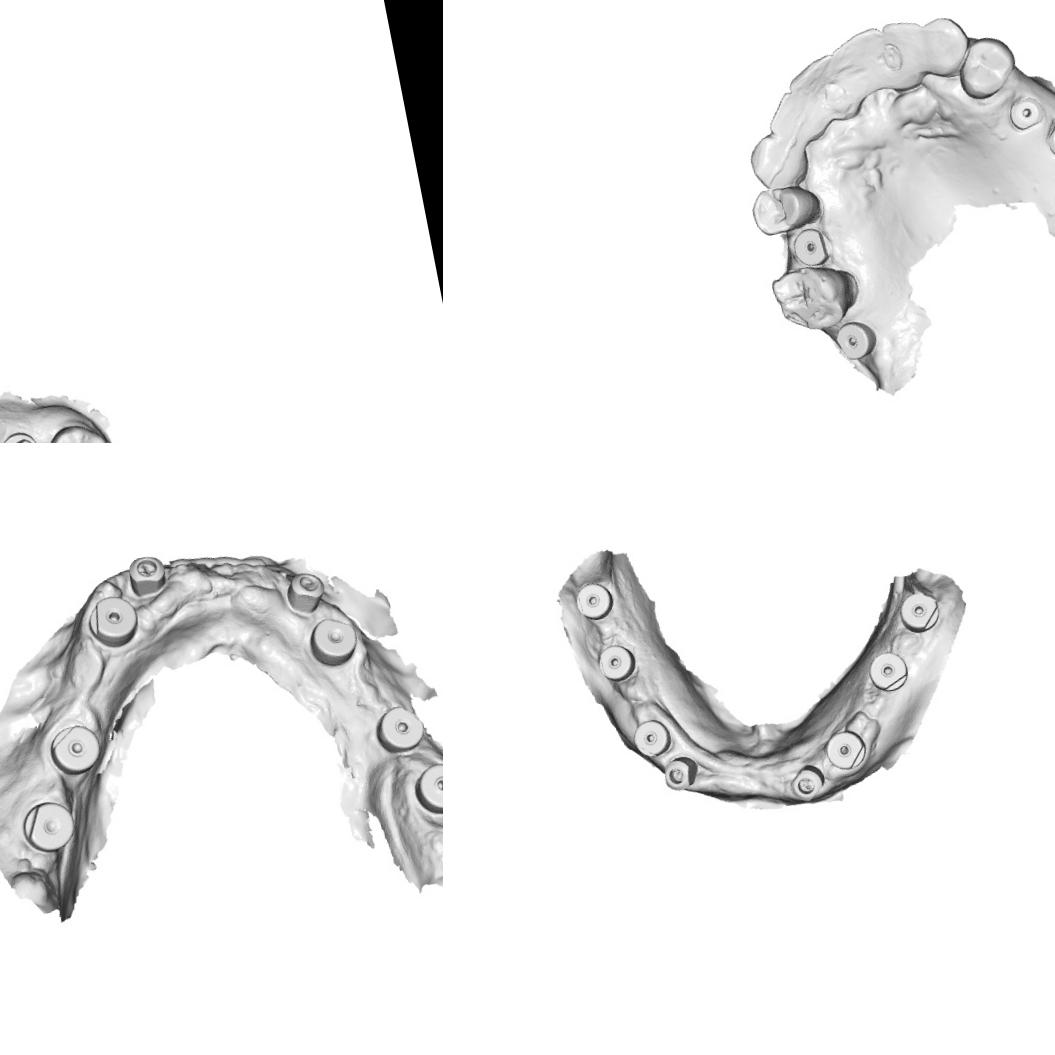canine: (744, 126, 813, 194), (919, 10, 974, 79)
implant: (882, 574, 956, 646), (850, 637, 922, 706), (618, 704, 691, 772), (644, 741, 717, 806), (774, 750, 841, 816), (812, 716, 876, 782), (567, 564, 627, 632), (15, 796, 80, 858), (302, 609, 365, 669), (82, 590, 142, 651), (371, 698, 430, 758), (44, 720, 104, 778), (590, 630, 644, 685), (832, 314, 880, 364), (407, 754, 443, 819), (281, 568, 330, 614), (789, 224, 836, 269), (124, 551, 168, 598), (1004, 92, 1047, 134), (0, 426, 42, 443), (1042, 113, 1055, 164)
incisor: (781, 51, 844, 125), (761, 84, 826, 150), (827, 24, 890, 88), (879, 15, 929, 72)
molar: (768, 256, 866, 338), (36, 415, 121, 443)
premolar: (952, 30, 1022, 103), (746, 178, 825, 238)
